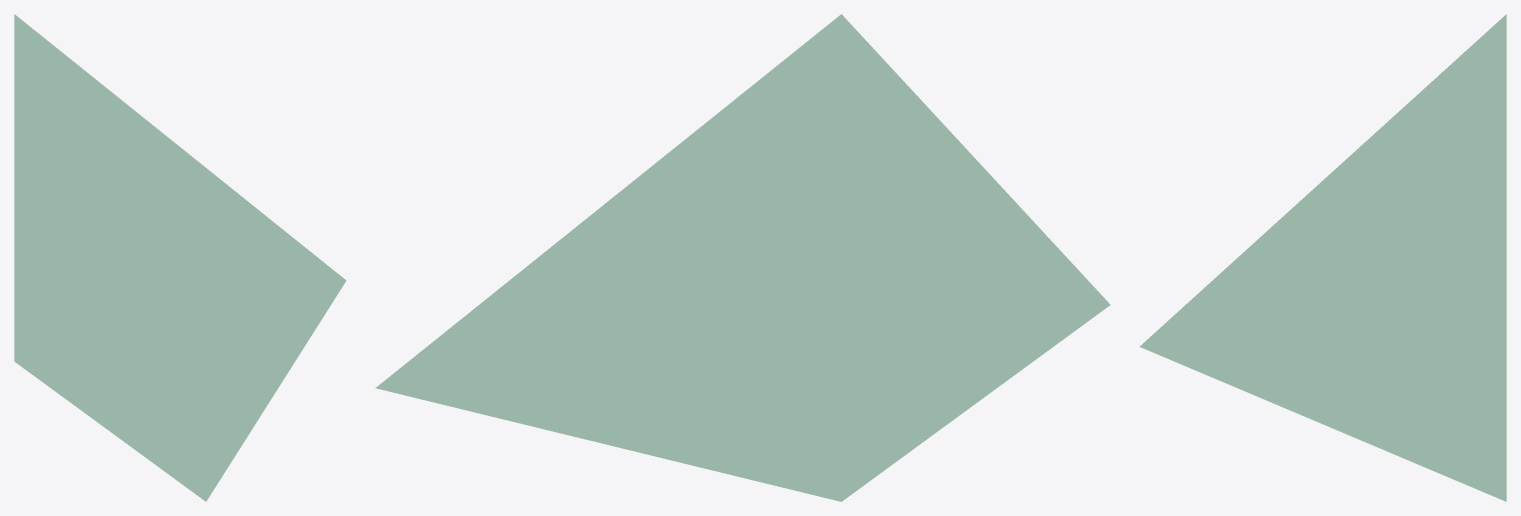
The model's file is fixture_vegetation.gltf.
3 views of the same model, side by side, from view 1: azimuth 30°, elevation 25°; view 2: azimuth 150°, elevation 25°; view 3: azimuth 270°, elevation 25° (orthographic). The views are drawn at different scales.
Size of the model in its own units: 1 by 1 by 1.
